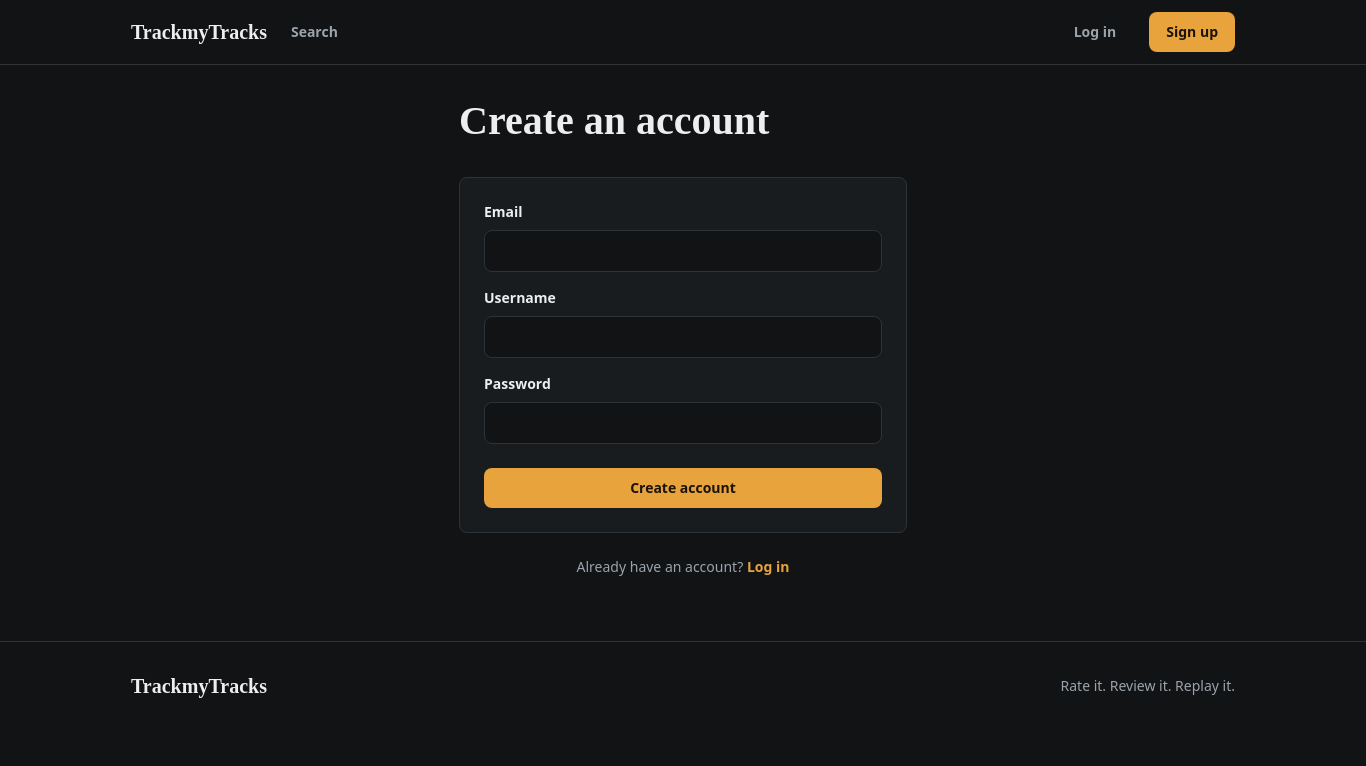
Test case: RegisterPage › shows a taken username
Type "alice@example.com" into the field labelled "Email" at (683,251), box [484,230,882,272]
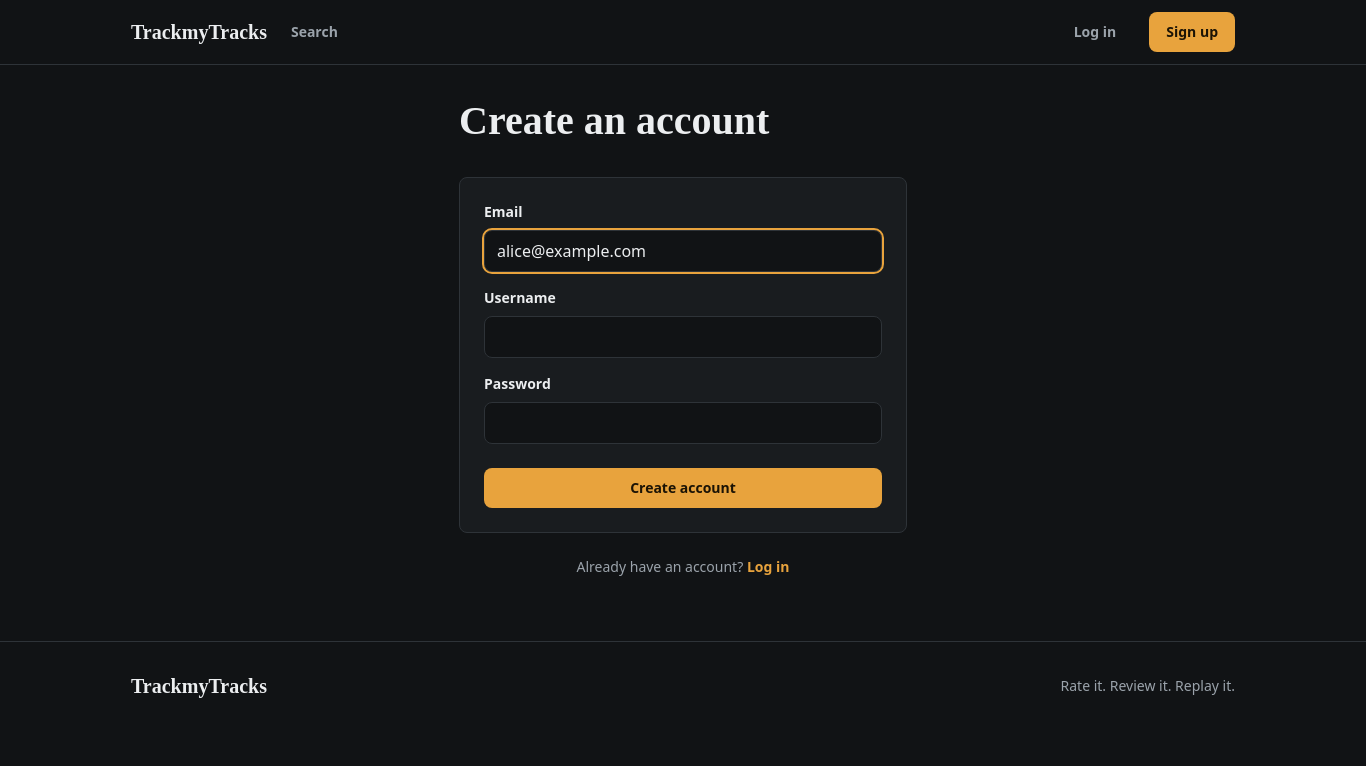
Type "alice" into the field labelled "Username" at (683,337), box [484,316,882,358]
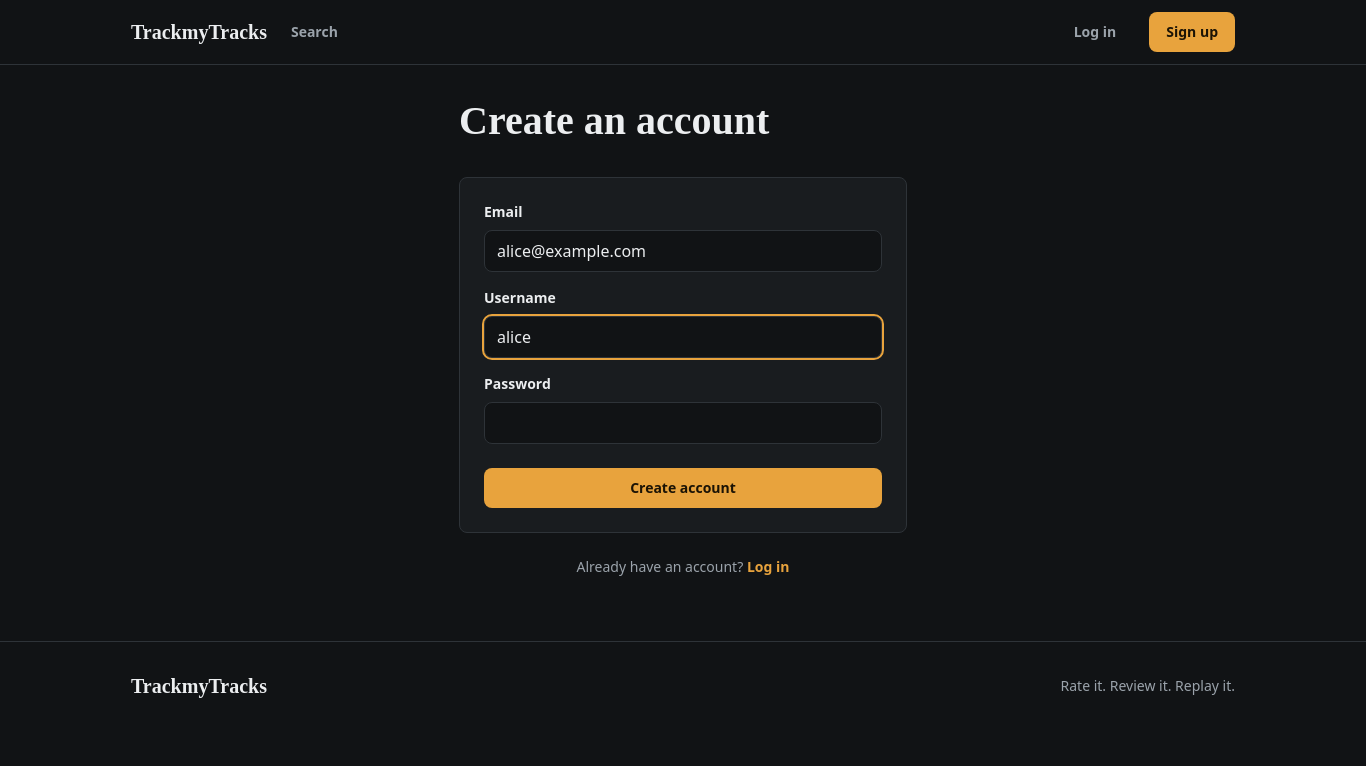
Type "password123" into the password field labelled "Password" at (683,423), box [484,402,882,444]
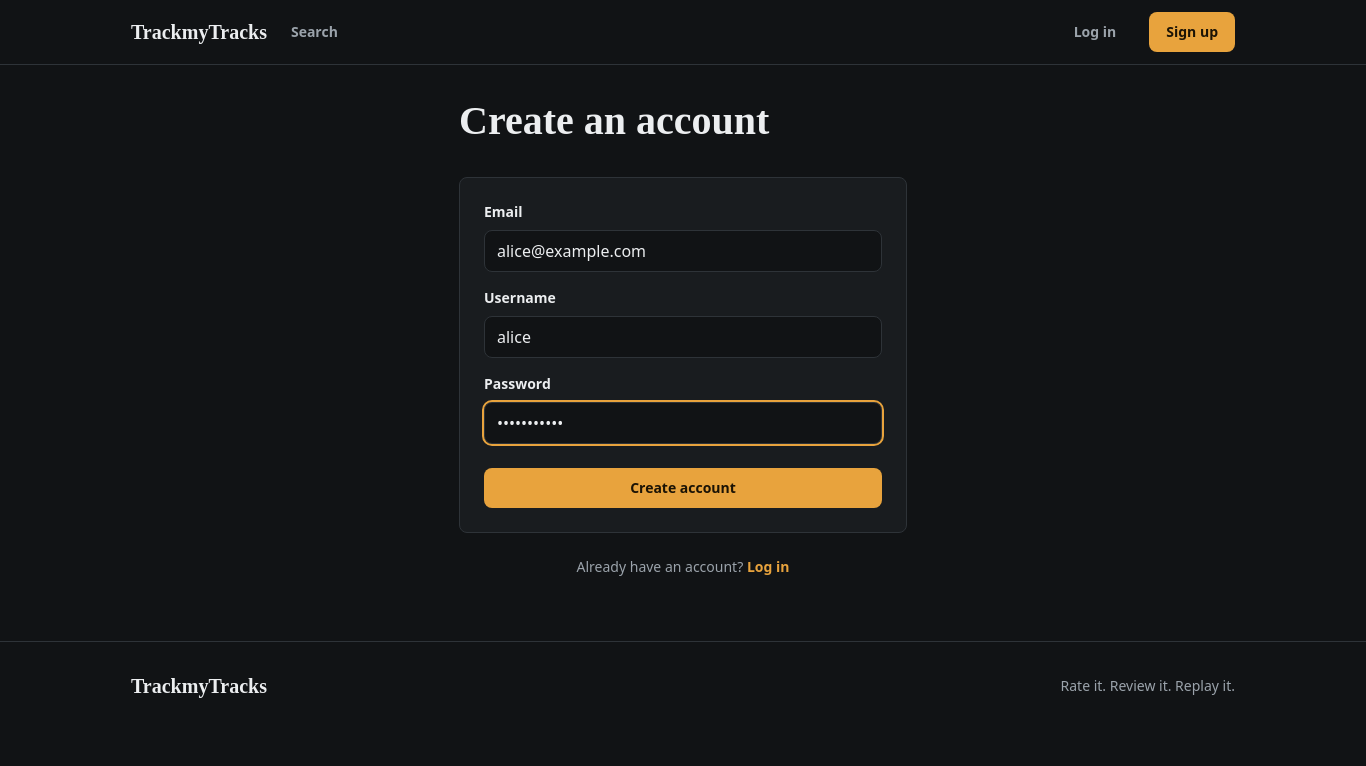
Click the button "Create account" at (683,488), box [484,468,882,508]
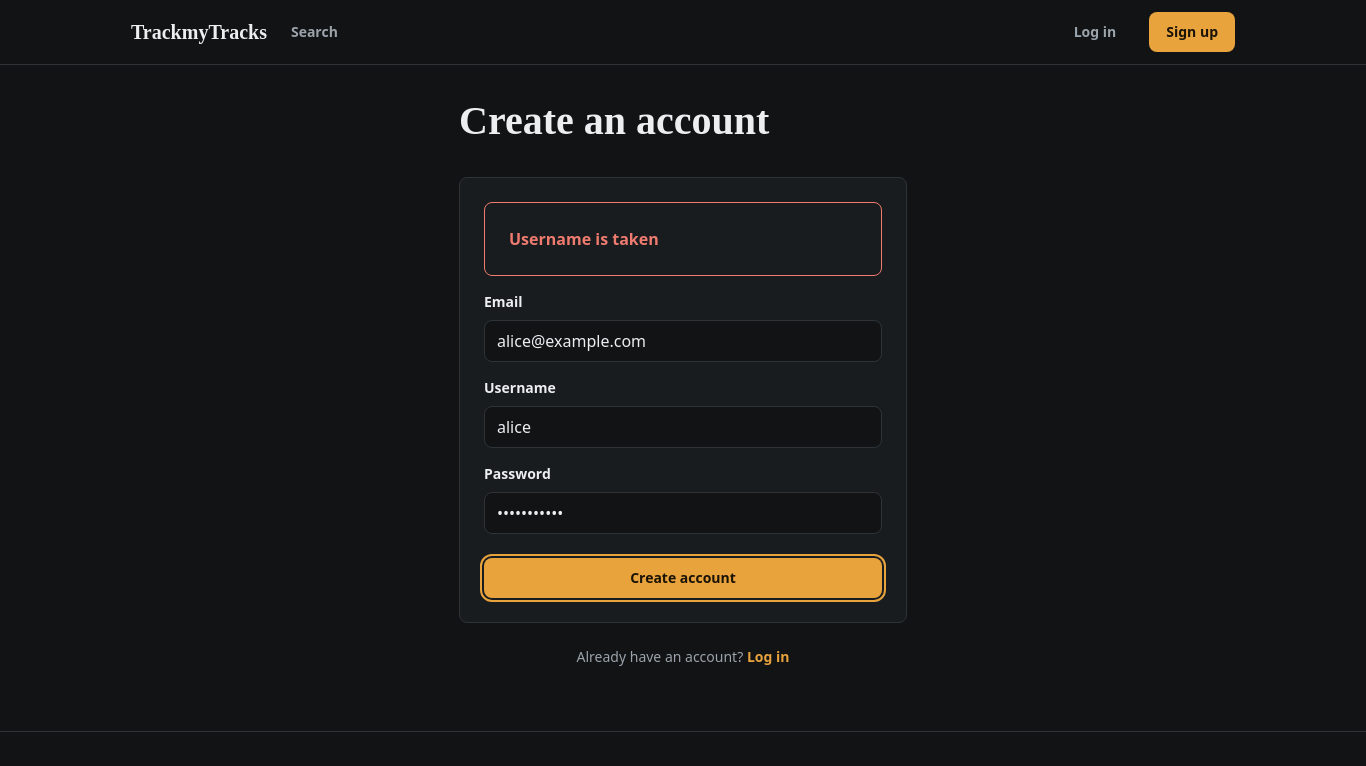
Check: the message reads "Username is taken", box [509,228,659,250]
